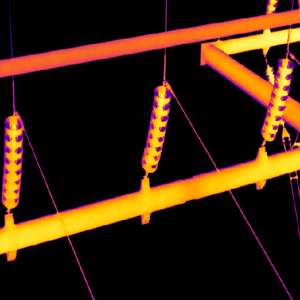insulator: (260, 57, 294, 142), (140, 83, 171, 173), (2, 112, 21, 210)
